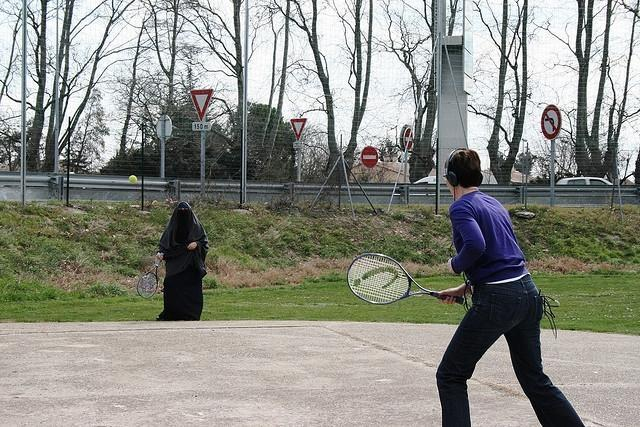car: (555, 176, 613, 185), (414, 176, 437, 184)
